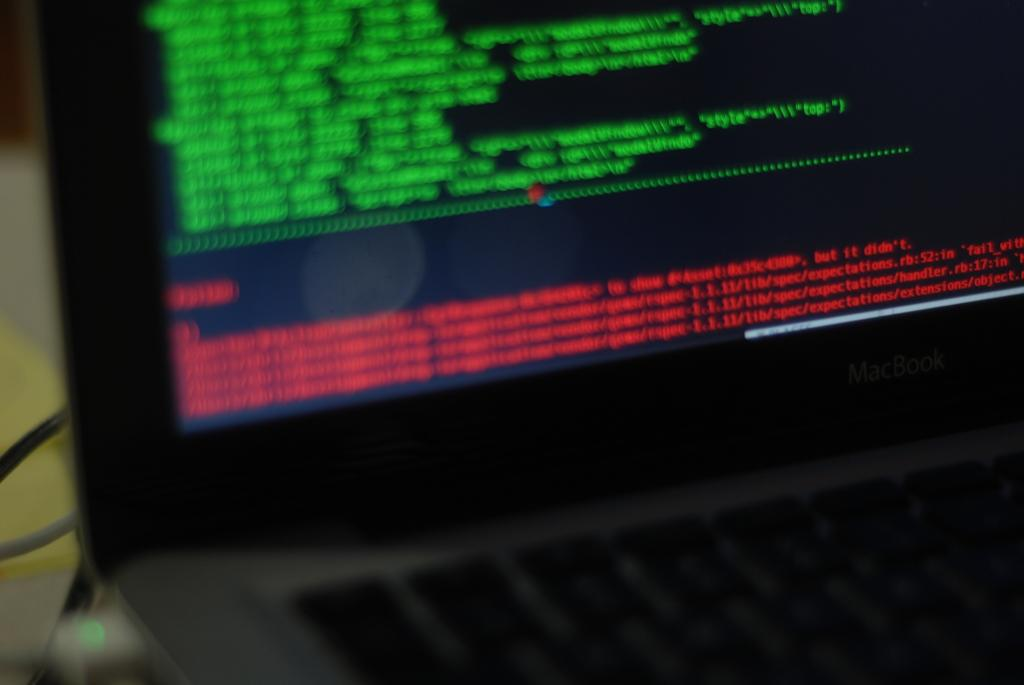Computer-keyboard: (286, 447, 1023, 684)
